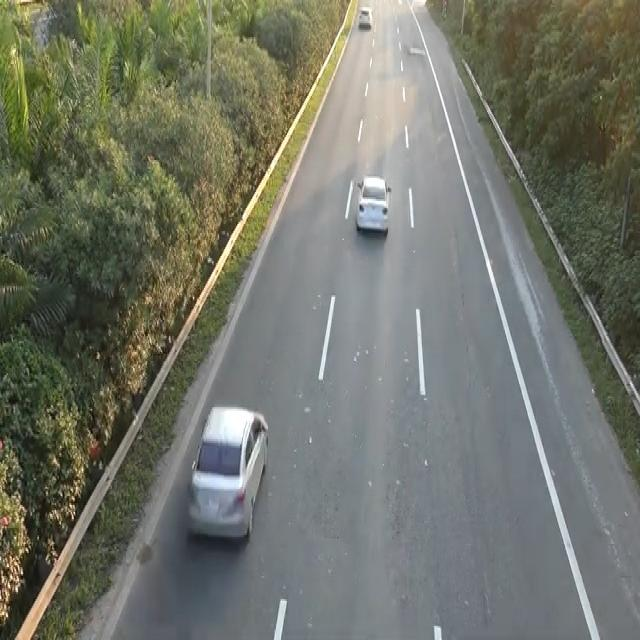bus: (185, 400, 270, 544), (354, 170, 392, 237)
